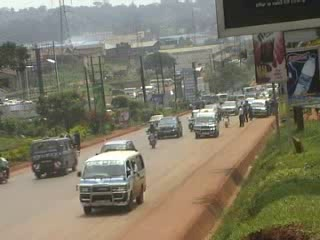Car: (95, 138, 139, 162), (155, 116, 186, 140), (220, 98, 240, 118), (189, 108, 217, 121), (202, 102, 223, 119), (148, 112, 166, 127)
Motorcycle: (144, 124, 160, 149), (0, 151, 11, 186), (222, 107, 234, 128), (186, 112, 198, 132)
